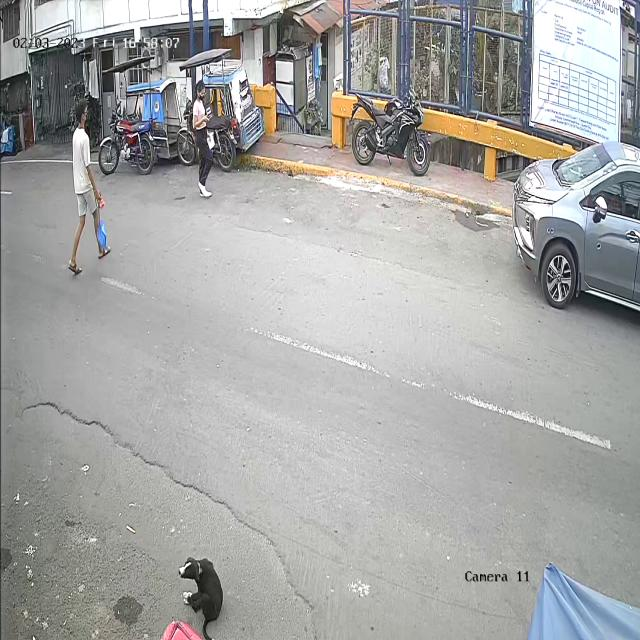human: (68, 100, 110, 274)
trash: (95, 202, 109, 253)
